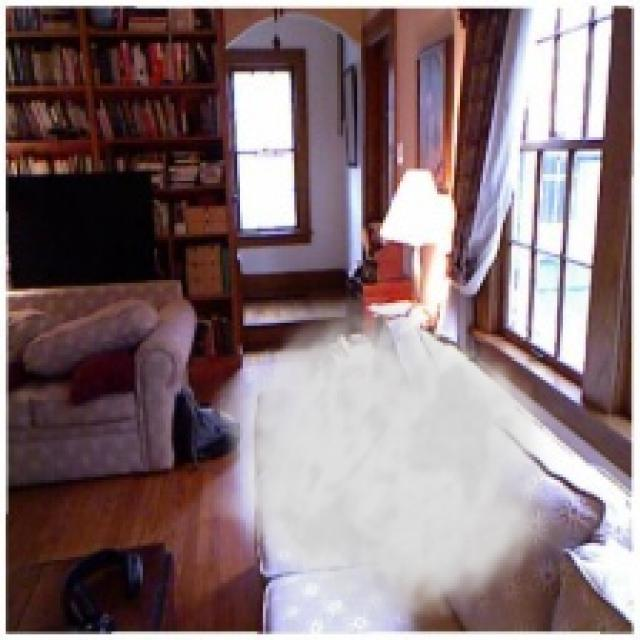Smoke: (212, 286, 568, 638)
